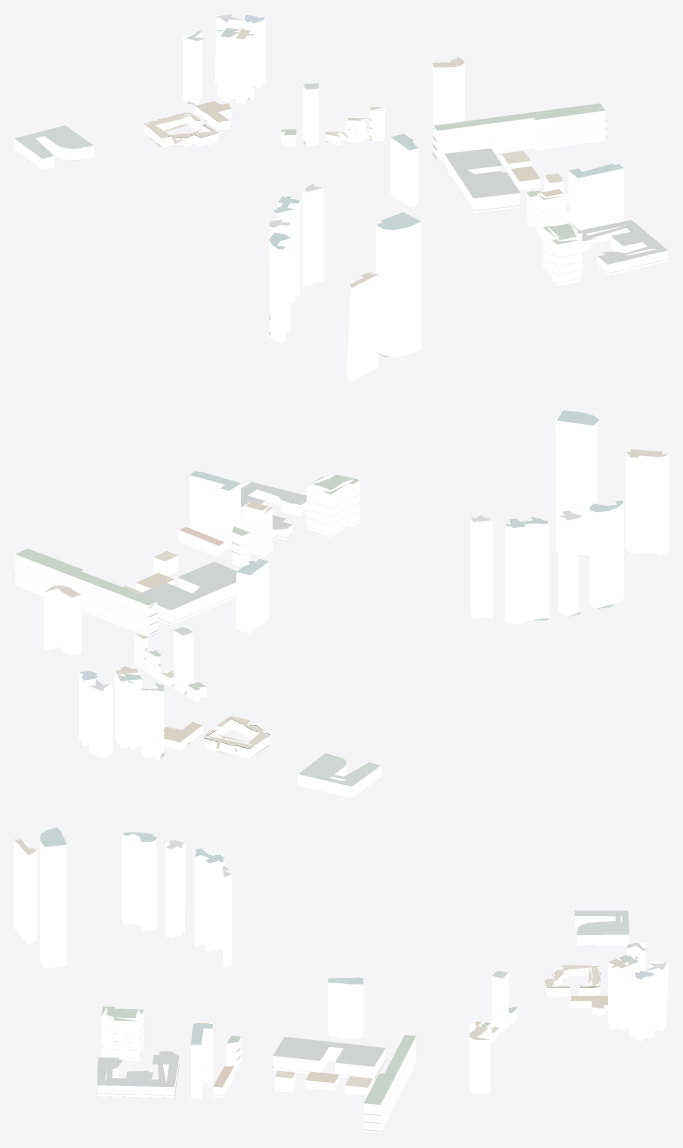
File: buildings--11_2-coarse.glb
3 renders of one model, top to bottom at view 1: azimuth 30°, elevation 25°; view 2: azimuth 150°, elevation 25°; view 3: azimuth 270°, elevation 25°, orthographic. The views are drawn at different scales.
Visible parts, largest first — view 1: block_-11_2_office, block_-11_2_residential, block_-11_2_roof; view 2: block_-11_2_office, block_-11_2_residential, block_-11_2_roof; view 3: block_-11_2_office, block_-11_2_roof, block_-11_2_residential.
Boxes of the visible parts, left/top/right/bottom form: block_-11_2_office: left=14, top=14, right=623, bottom=381; block_-11_2_residential: left=144, top=106, right=667, bottom=285; block_-11_2_roof: left=15, top=14, right=668, bottom=377; block_-11_2_office: left=44, top=411, right=668, bottom=798; block_-11_2_residential: left=15, top=473, right=360, bottom=758; block_-11_2_roof: left=14, top=410, right=668, bottom=798; block_-11_2_office: left=14, top=832, right=668, bottom=1098; block_-11_2_roof: left=14, top=827, right=665, bottom=1133; block_-11_2_residential: left=97, top=966, right=607, bottom=1133.
Size of the model in its own units: 459 by 127 by 596.
